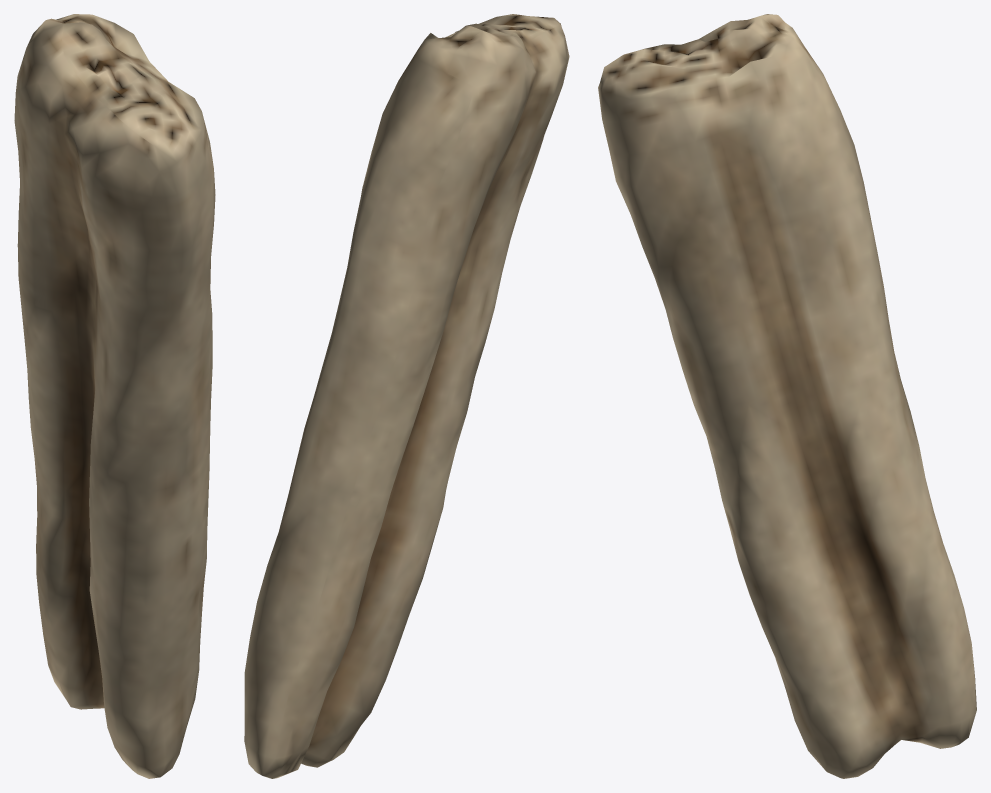
File: mandibular_molar4.glb
3 views of the same model, side by side, from view 1: azimuth 30°, elevation 25°; view 2: azimuth 150°, elevation 25°; view 3: azimuth 270°, elevation 25° (orthographic). The views are drawn at different scales.
Visible parts, largest first — view 1: Group32726_Mesh.012; view 2: Group32726_Mesh.012; view 3: Group32726_Mesh.012.
Boxes of the visible parts, x1,y1,x2,y2 form: Group32726_Mesh.012: (14, 14, 215, 778); Group32726_Mesh.012: (244, 14, 569, 778); Group32726_Mesh.012: (598, 14, 976, 778).
Bounding box in the file's own units: 0.0247 × 0.0908 × 0.0443.
1 material, 1 textured.
